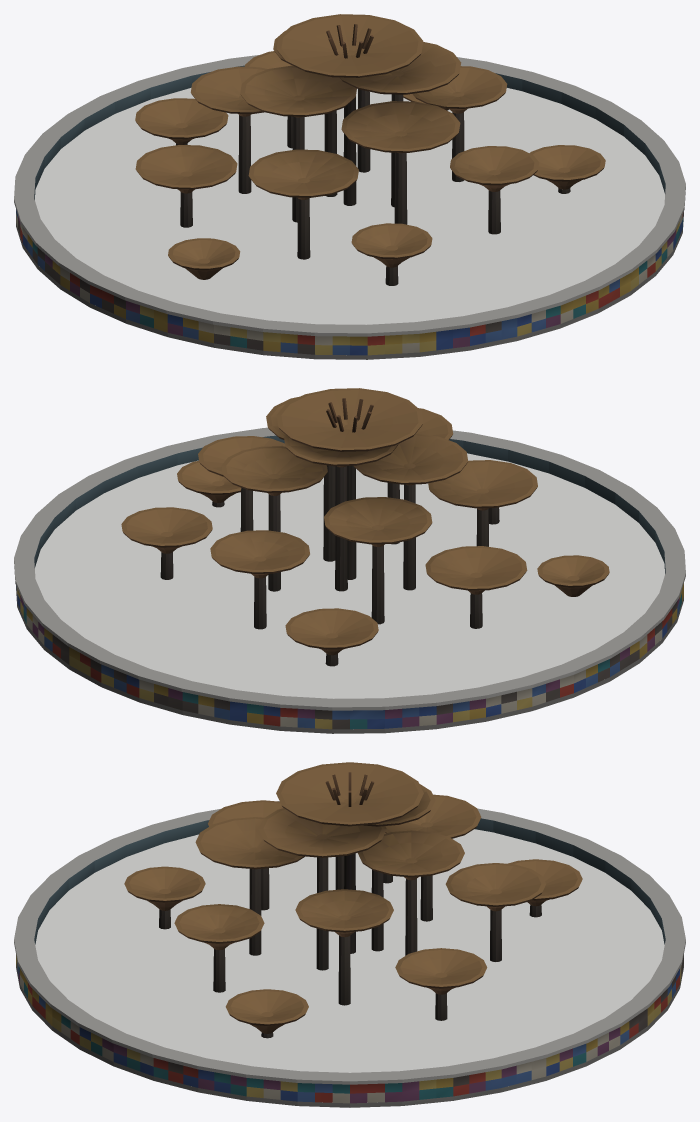
The model's file is brunnen_voelkerfreundschaft.glb.
The picture shows the model from 3 angles, top to bottom: view 1: azimuth 30°, elevation 25°; view 2: azimuth 150°, elevation 25°; view 3: azimuth 270°, elevation 25°; orthographic projection.
Visible parts, largest first — view 1: lack, glas; view 2: lack, glas; view 3: glas, lack.
Part boxes in pixels (x1,y1,x2,y2): lack: (14, 14, 685, 359); glas: (35, 88, 664, 324); lack: (14, 388, 685, 733); glas: (35, 453, 664, 698); glas: (35, 829, 664, 1072); lack: (14, 762, 685, 1107).
Bounding box in the file's own units: 21.94 × 6.67 × 21.94.
